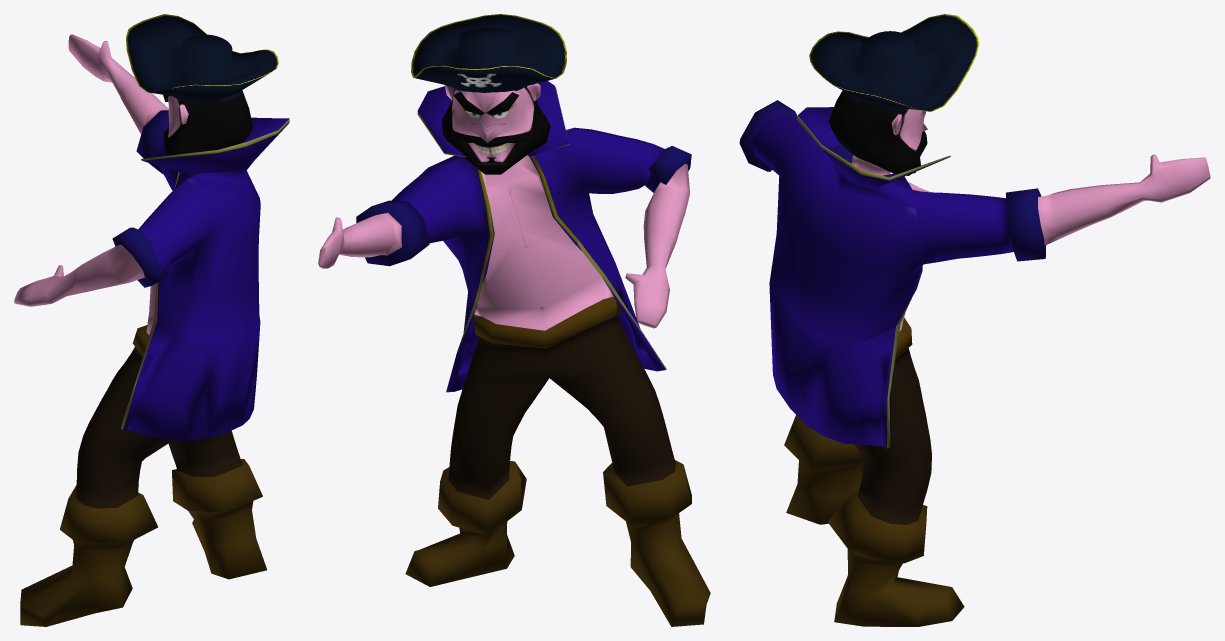
File: pirata_000398.obj
The picture shows the model from 3 angles, left to right: view 1: azimuth 30°, elevation 25°; view 2: azimuth 150°, elevation 25°; view 3: azimuth 270°, elevation 25°; orthographic projection. The views are drawn at different scales.
Parts seen in each view (by area): view 1: Pirata_PirataH; view 2: Pirata_PirataH; view 3: Pirata_PirataH.
Part boxes in pixels (x1=…): Pirata_PirataH: x1=14, y1=14, x2=289, y2=626; Pirata_PirataH: x1=318, y1=14, x2=710, y2=626; Pirata_PirataH: x1=739, y1=14, x2=1210, y2=626.
Size of the model in its own units: 4.96 by 9.35 by 6.97.
1 material, 1 textured.
